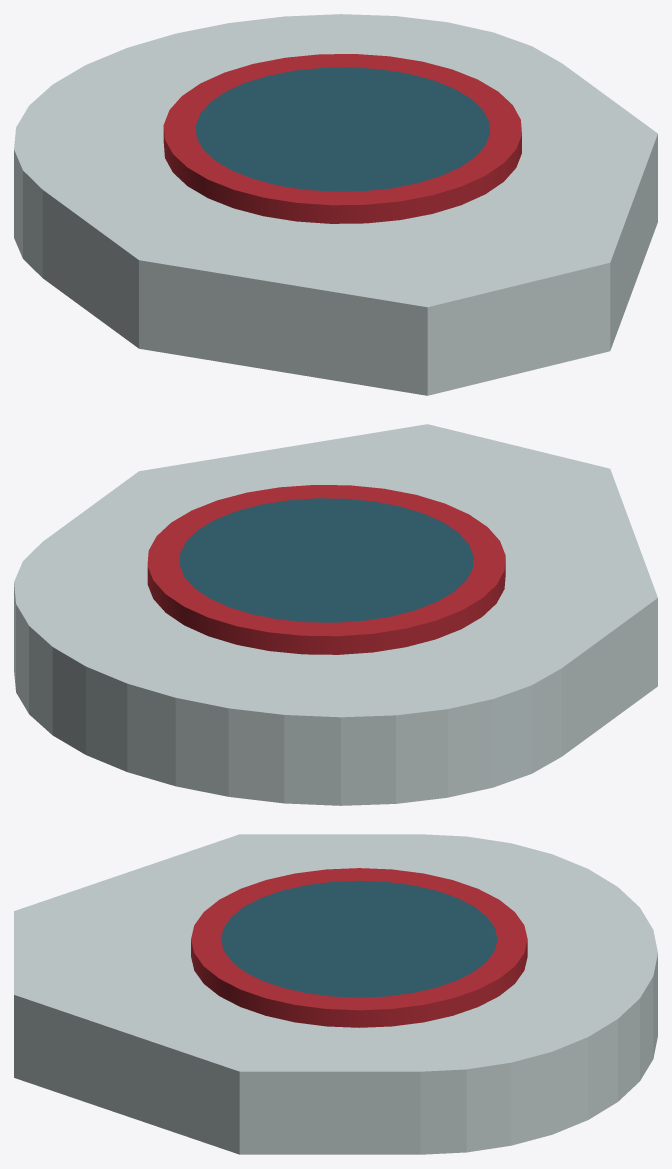
The model's file is ikinci_ksm_sonu.fbx.
3 views of the same model, one above another, from view 1: azimuth 30°, elevation 25°; view 2: azimuth 150°, elevation 25°; view 3: azimuth 270°, elevation 25° (orthographic). The views are drawn at different scales.
Visible parts, largest first — view 1: Circle.005, Circle.006; view 2: Circle.005, Circle.006; view 3: Circle.005, Circle.006.
Part boxes in pixels (x1=…): Circle.005: x1=14, y1=14, x2=657, y2=395; Circle.006: x1=163, y1=54, x2=521, y2=223; Circle.005: x1=14, y1=424, x2=657, y2=805; Circle.006: x1=147, y1=485, x2=505, y2=654; Circle.005: x1=14, y1=834, x2=657, y2=1154; Circle.006: x1=191, y1=868, x2=527, y2=1027.
Size of the model in its own units: 203 by 39.99 by 232.
